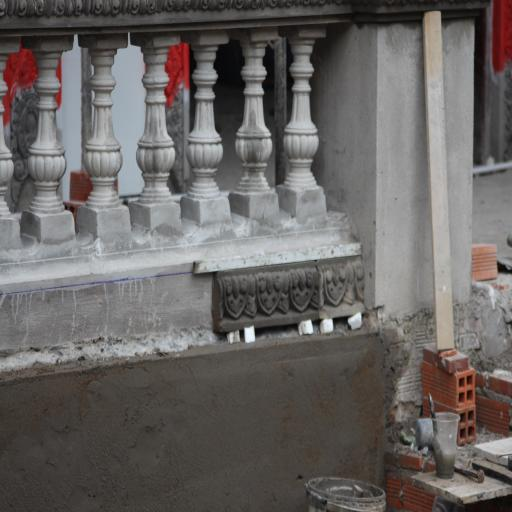la: (26, 150, 70, 180), (86, 143, 120, 180), (135, 144, 177, 172), (282, 130, 320, 158), (185, 141, 225, 167), (238, 141, 276, 160)
